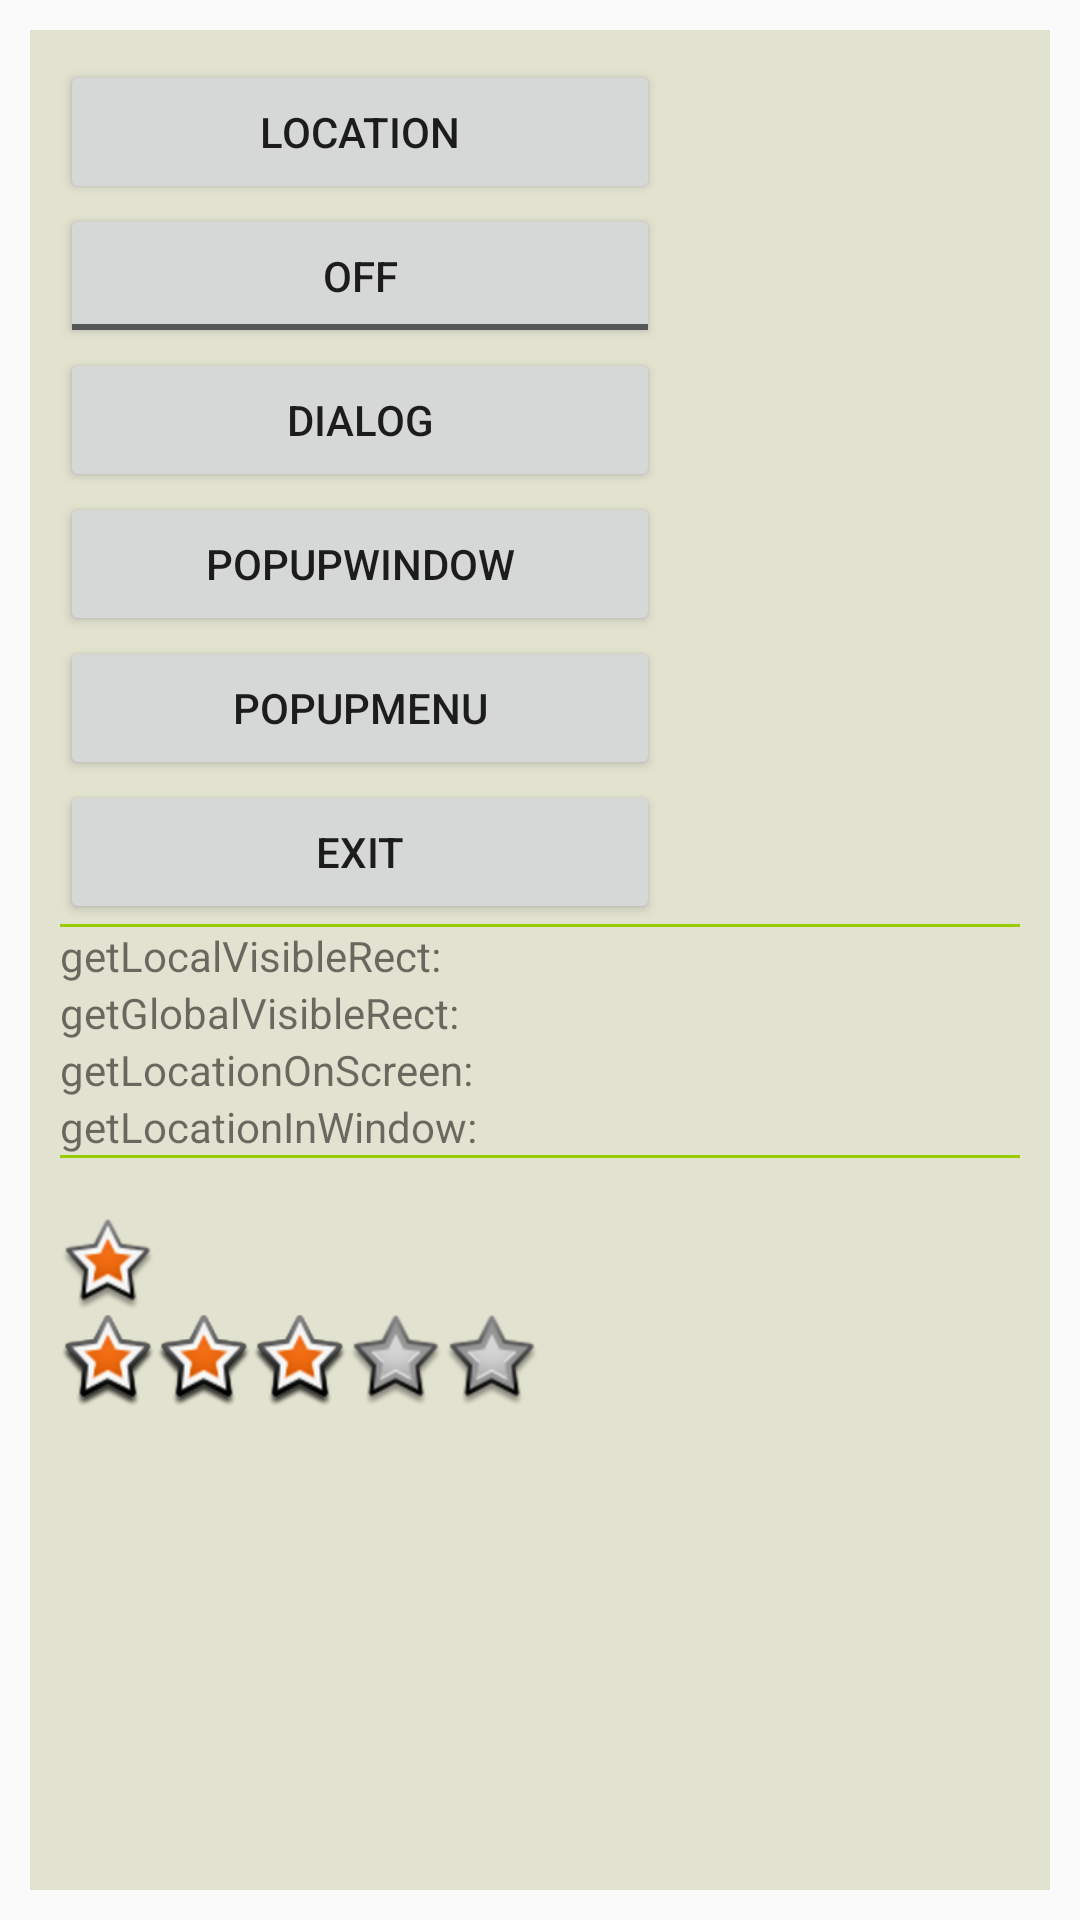

Icons on this 1080 x 1920 Android screen, each with its box as bbox(x1, y1, x2, y2):
star on: bbox(65, 1219, 150, 1306)
